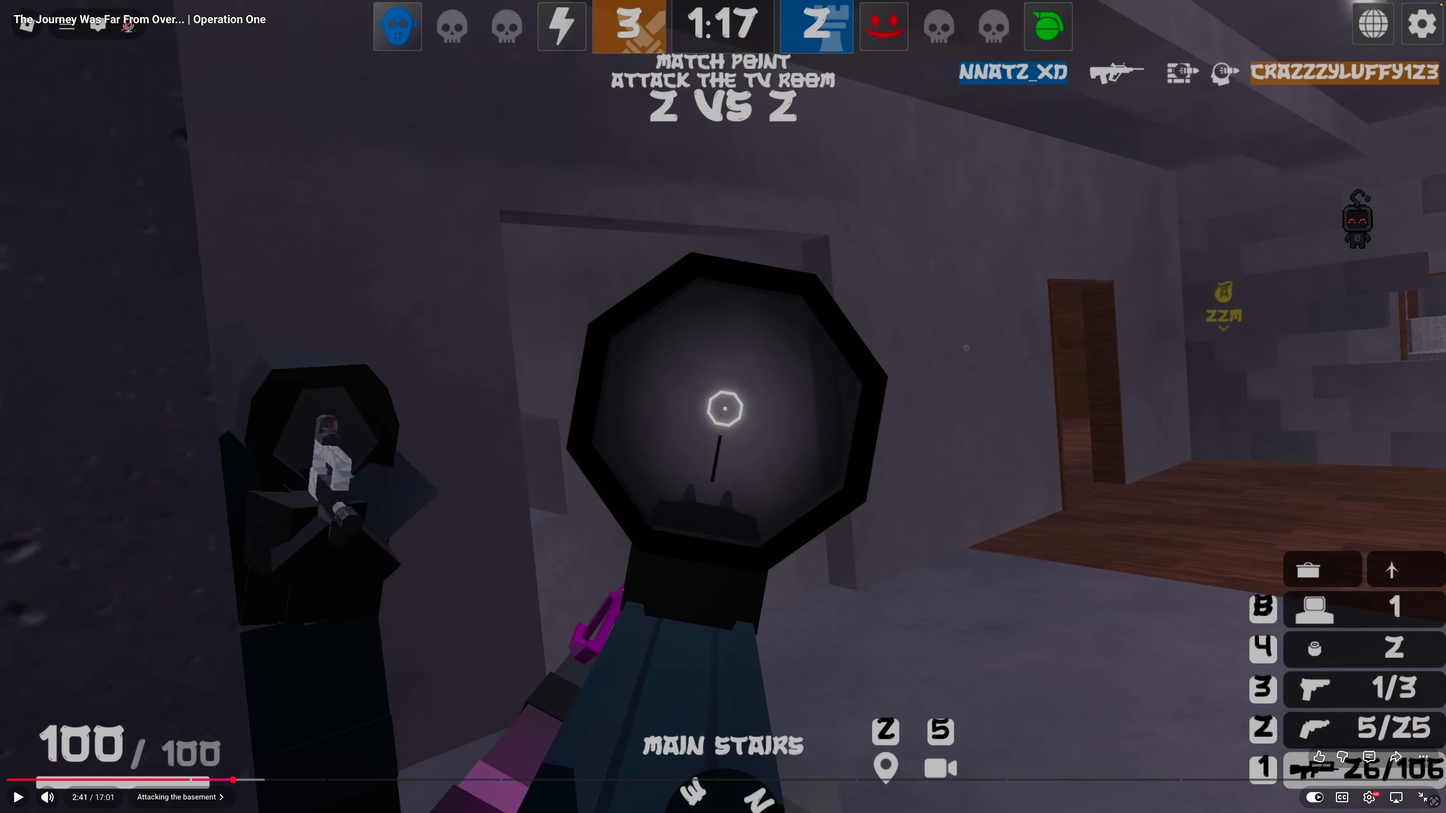enemy: (212, 334, 442, 813)
